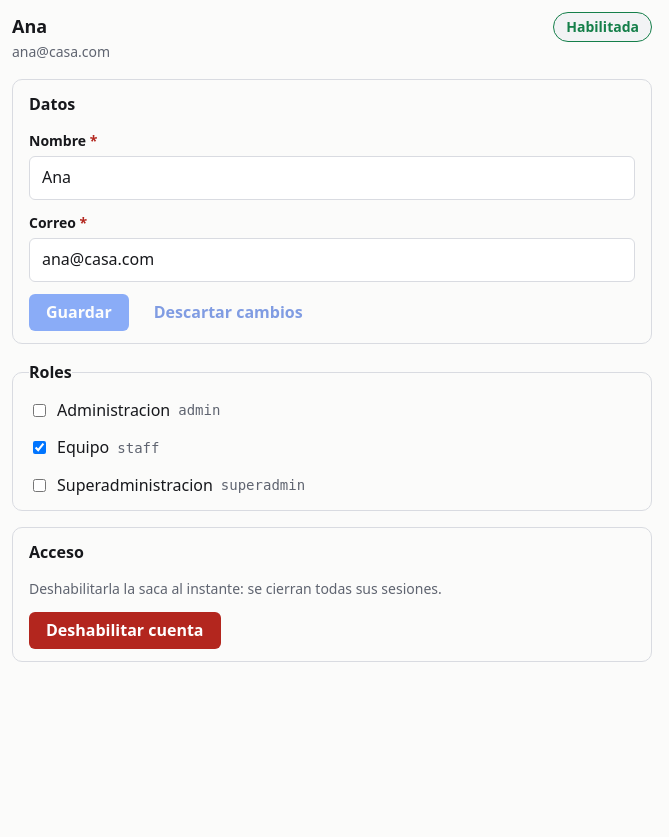
Test case: FichaDeCuenta › un 409 con otra version es que alguien guardo en medio, y no pisa lo escrito
The width and height of the screenshot is (669, 837).
Replace the text in the field labelled "Nombre *" with "La mia": (332, 178) [29,156,635,200]
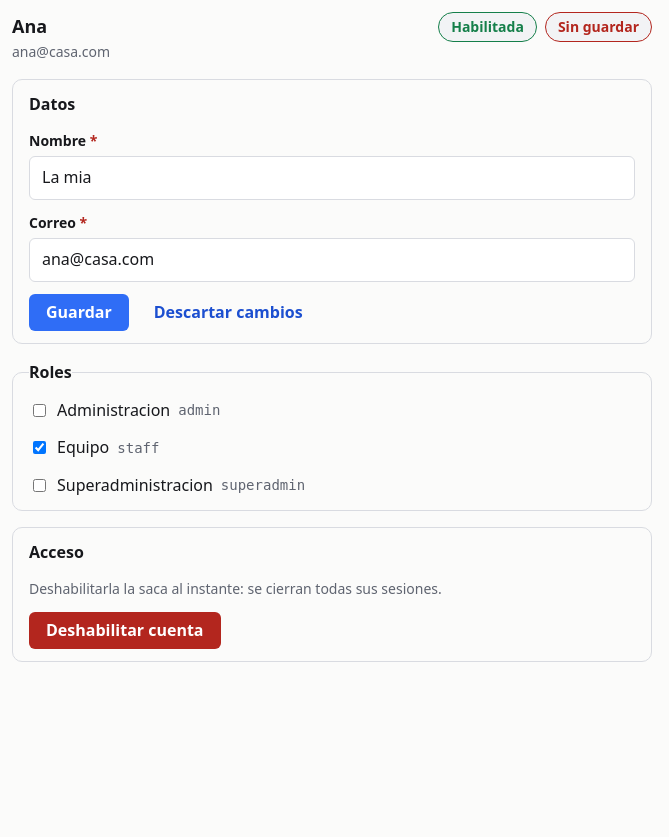
Click the button "Guardar": (79, 312) [29,294,129,331]
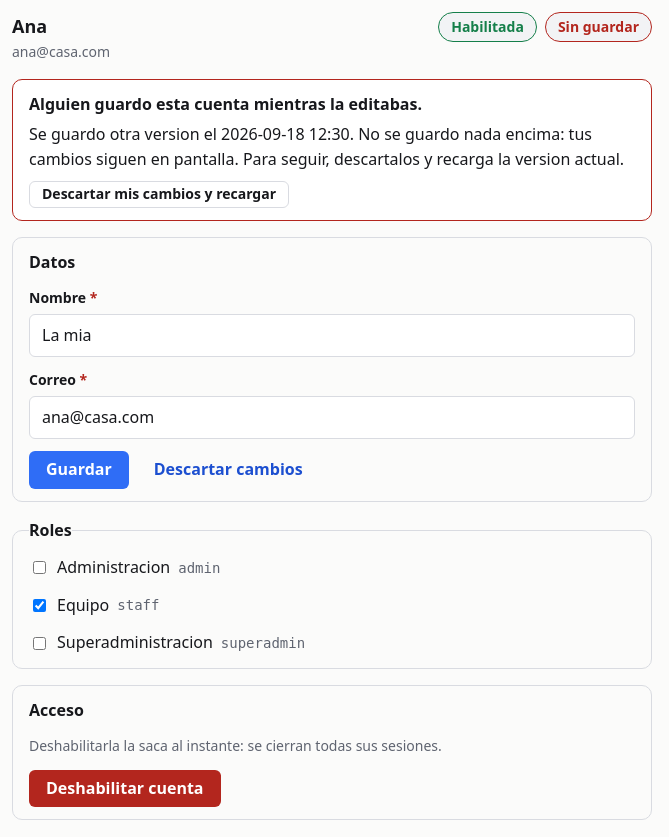
Check: the message shows "2026-09-18 12:30", box [29,123,624,170]
